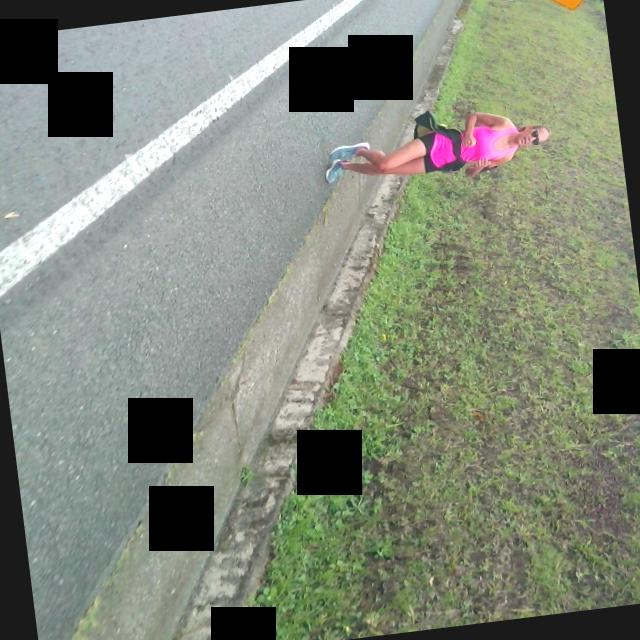DITCH: (0, 0, 605, 640), (0, 0, 549, 640)
